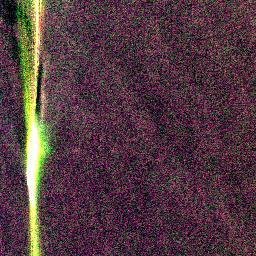Ship: (18, 109, 50, 195)
